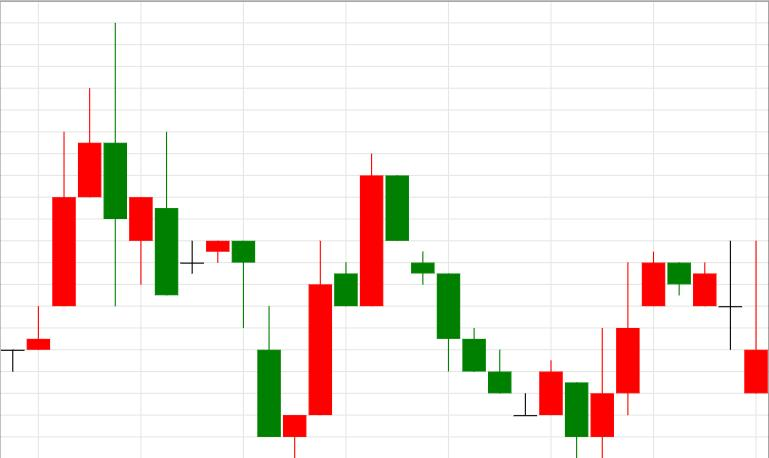bearish_engulfing_fall: (0, 23, 127, 372)
inverse_hammer_rise: (642, 241, 768, 393)
morning_star_rise: (386, 175, 563, 416)
